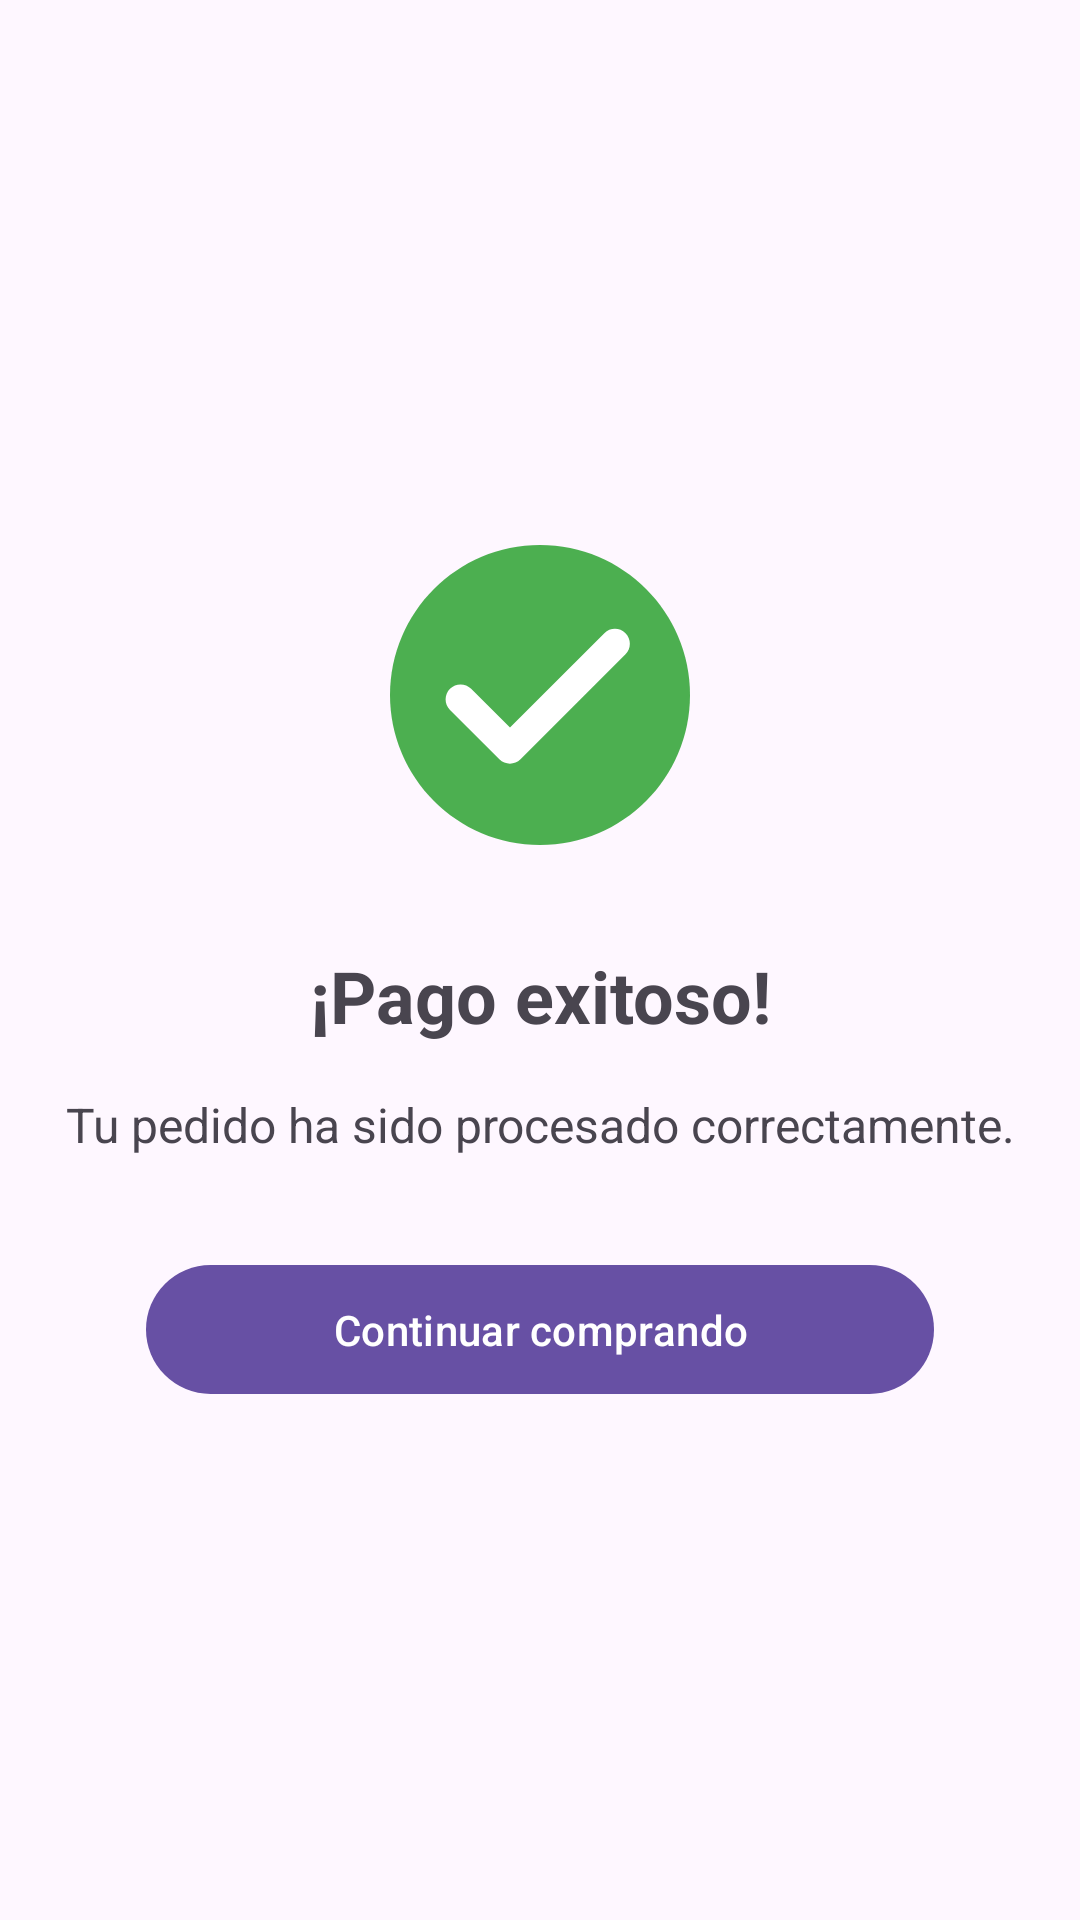

Icon click points for this 1080 × 1920 phone screenshot, format point (x, y):
check circle: point (540, 695)
